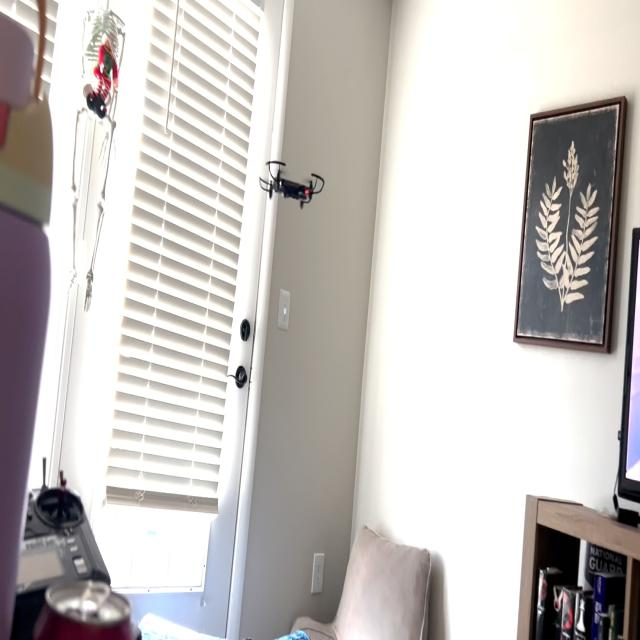drone: (250, 140, 333, 220)
